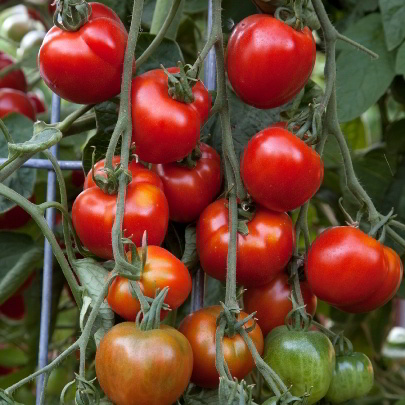tomato: (37, 1, 136, 105), (73, 155, 168, 259), (223, 11, 317, 110), (197, 194, 297, 287), (304, 225, 404, 313), (95, 319, 193, 405), (132, 67, 212, 164), (177, 305, 264, 389), (241, 125, 324, 212), (105, 244, 192, 320), (147, 143, 223, 222), (263, 326, 336, 405), (242, 267, 318, 334), (321, 349, 374, 404)
